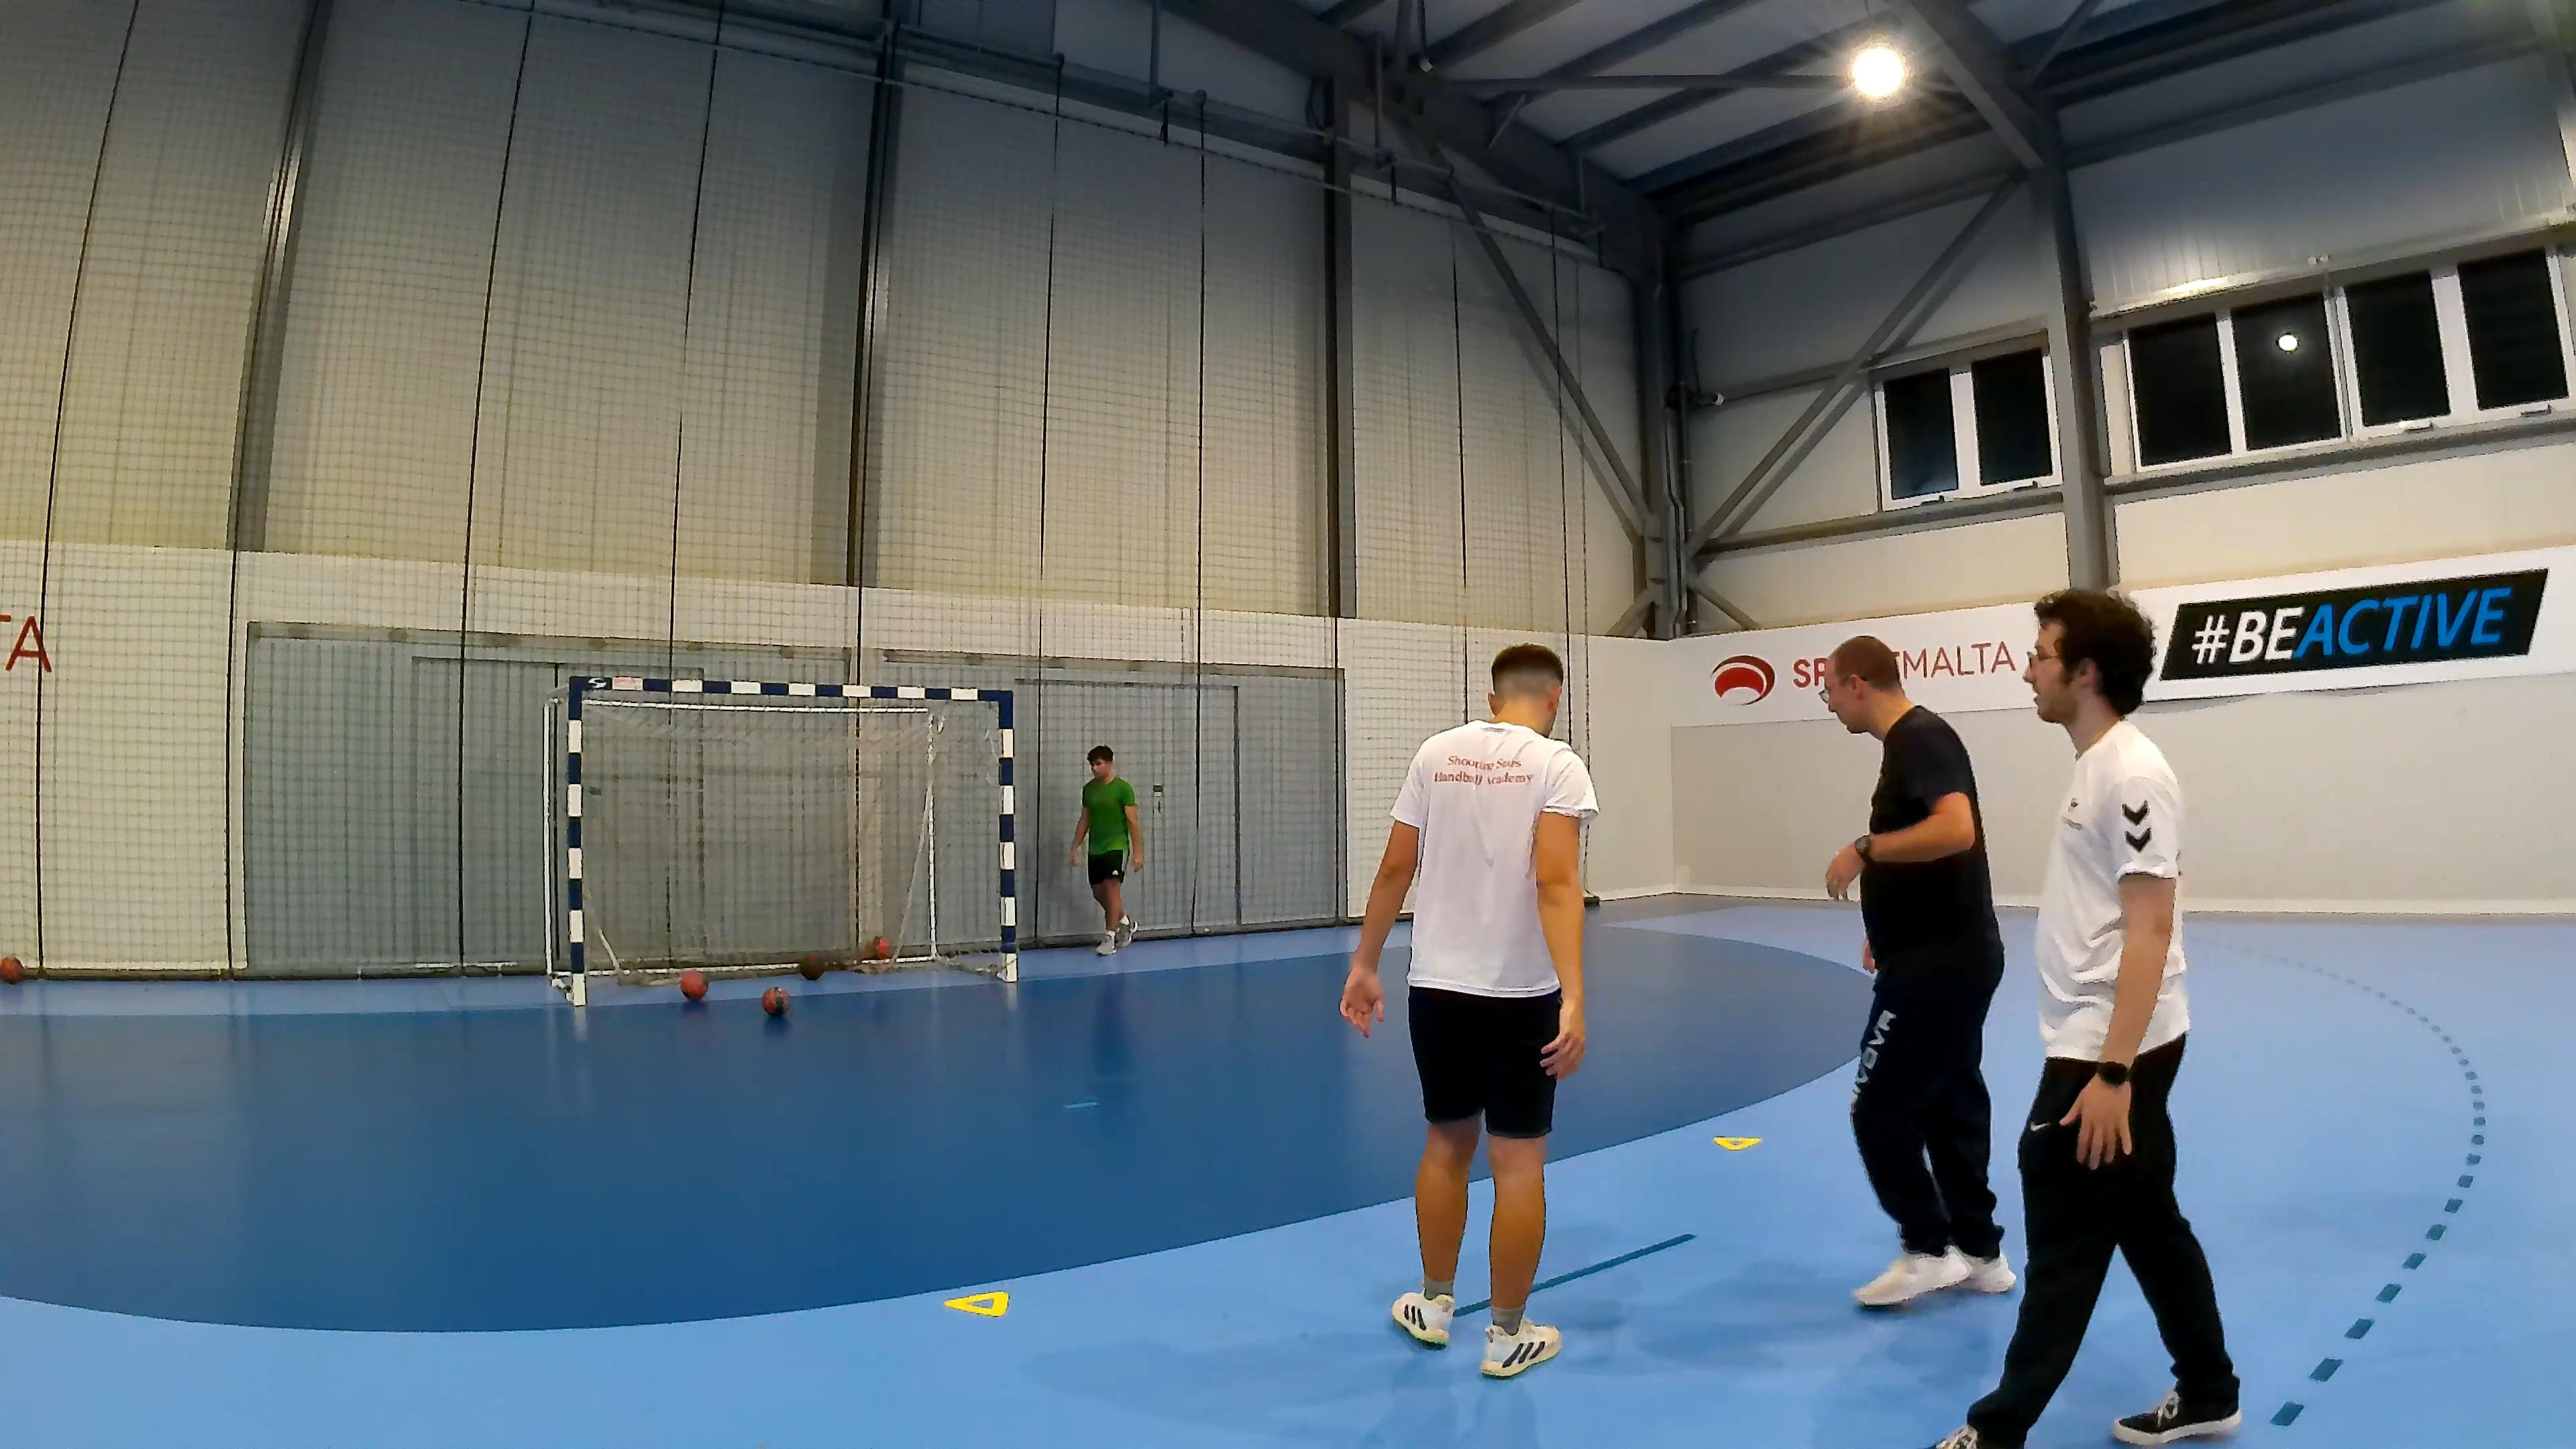handball: (678, 970, 708, 1000), (761, 985, 789, 1016), (796, 952, 823, 980)
